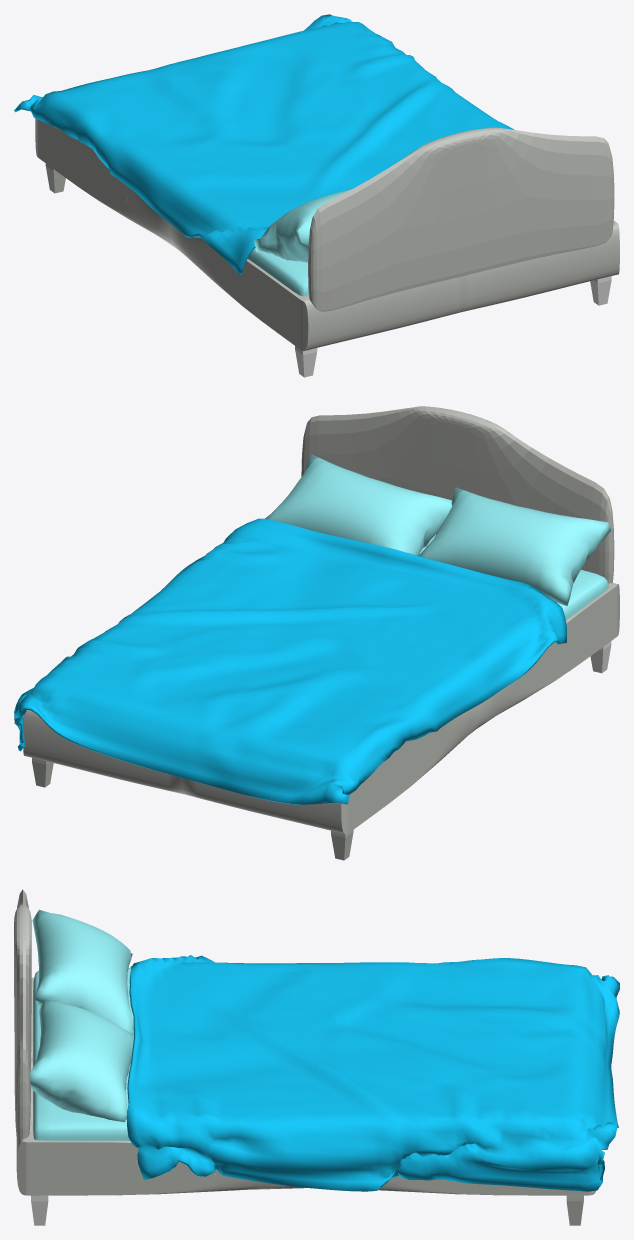
File: Bed.fbx
3 views of the same model, one above another, from view 1: azimuth 30°, elevation 25°; view 2: azimuth 150°, elevation 25°; view 3: azimuth 270°, elevation 25° (orthographic). The views are drawn at different scales.
Parts seen in each view (by area): view 1: Plane.002, Cube.006, Cube.001, Plane.001, Cube, Cube.002; view 2: Plane.002, Cube.006, Cube.001, Plane.001, Plane, Cube; view 3: Plane.002, Cube.001, Plane, Plane.001, Cube.006, Cube, Cube.004, Cube.003.
Boxes of the visible parts, box(x1,y1,x2,y2) form: Plane.002: box(14, 14, 514, 274); Cube.006: box(308, 127, 614, 311); Cube.001: box(35, 119, 619, 351); Plane.001: box(254, 189, 350, 262); Cube: box(248, 248, 308, 296); Cube.002: box(295, 346, 317, 377); Plane.002: box(14, 518, 566, 804); Cube.006: box(301, 406, 614, 583); Cube.001: box(23, 583, 619, 834); Plane.001: box(418, 487, 611, 605); Plane: box(265, 454, 451, 555); Cube: box(419, 534, 608, 619); Plane.002: box(126, 955, 619, 1191); Cube.001: box(16, 977, 595, 1195); Plane: box(30, 1000, 133, 1122); Plane.001: box(32, 909, 133, 1035); Cube.006: box(14, 889, 31, 1146); Cube: box(33, 968, 133, 1140); Cube.004: box(566, 1195, 583, 1225); Cube.003: box(31, 1195, 48, 1225).
Size of the model in its own units: 630 by 360 by 878.
